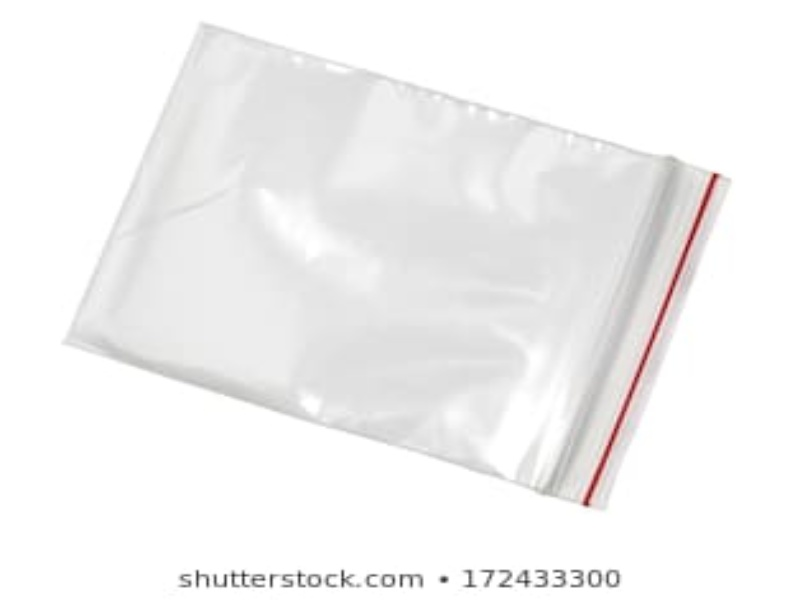plastic-bag: (62, 23, 733, 513)
